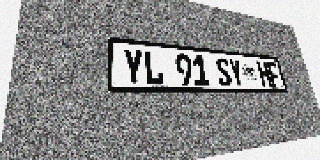1: (191, 55, 210, 86)
9: (175, 53, 195, 86)
F: (266, 62, 282, 87)
H: (256, 61, 272, 87)
L: (143, 50, 164, 85)
S: (215, 57, 233, 86)
Y: (122, 48, 145, 85), (228, 58, 245, 86)
